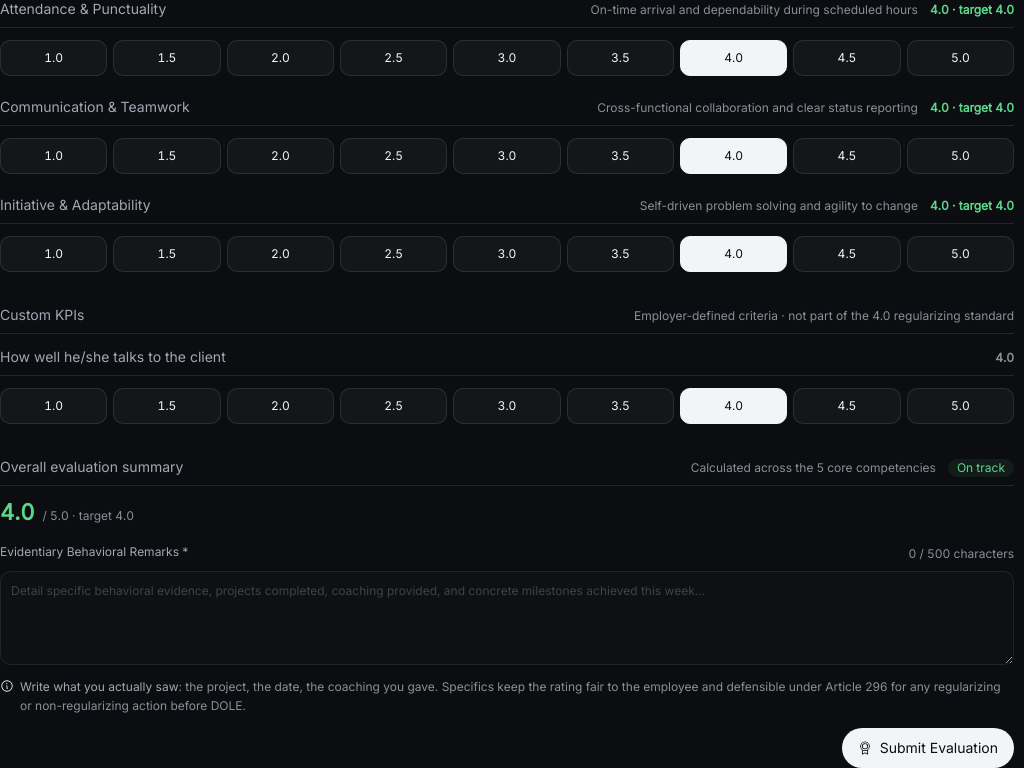
Test: RateEmployee › rates employer-defined custom KPIs and includes them in the payload
The image size is (1024, 768).
(page scrolled)
Expected: the heading "Custom KPIs" is shown, x1=0 y1=304 x2=84 y2=325
Click the button named "Score 2.0 for How well he/she talks to the client" at (280, 406), box x1=227 y1=388 x2=334 y2=424
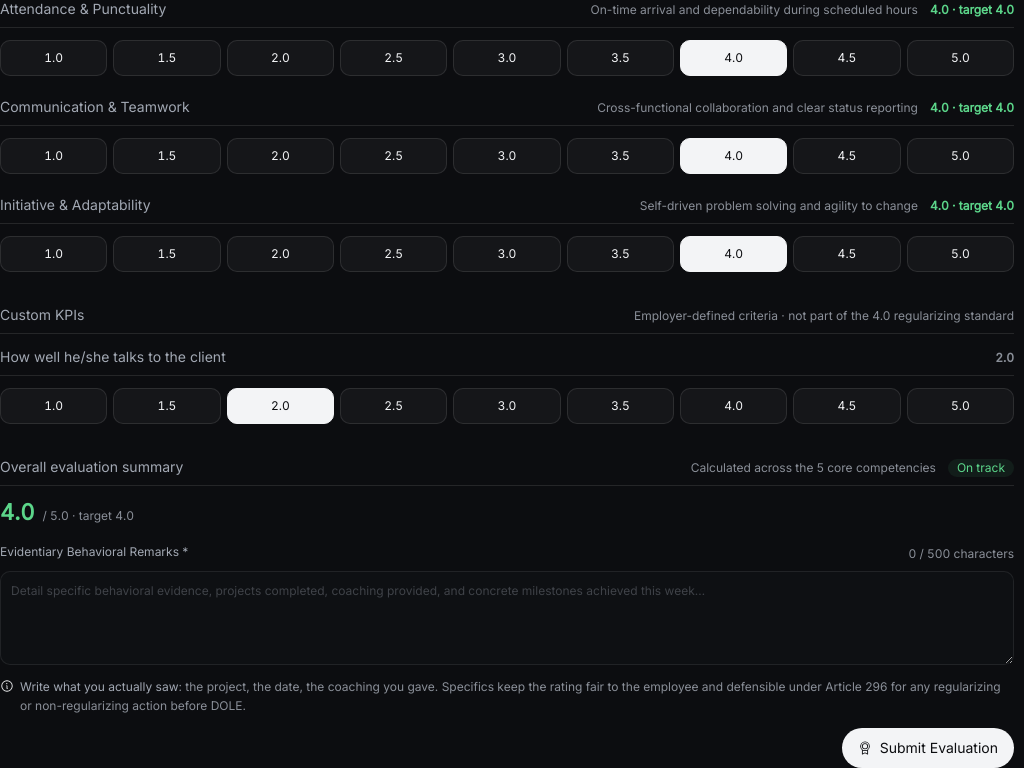
Replace the text in the text box labelled "Evidentiary Behavioral Remarks *" with "Client communication was inconsistent this week and needs coaching." at (507, 618), box x1=0 y1=571 x2=1014 y2=665
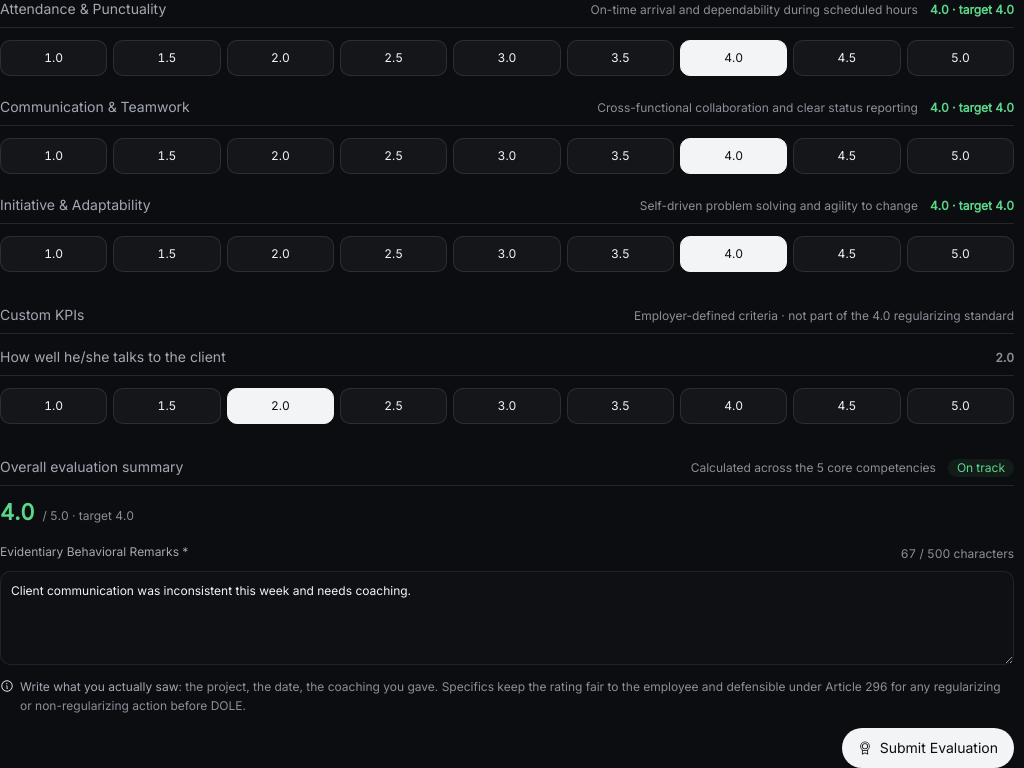
Click the button "Submit Evaluation" at (928, 748), box x1=842 y1=728 x2=1014 y2=767
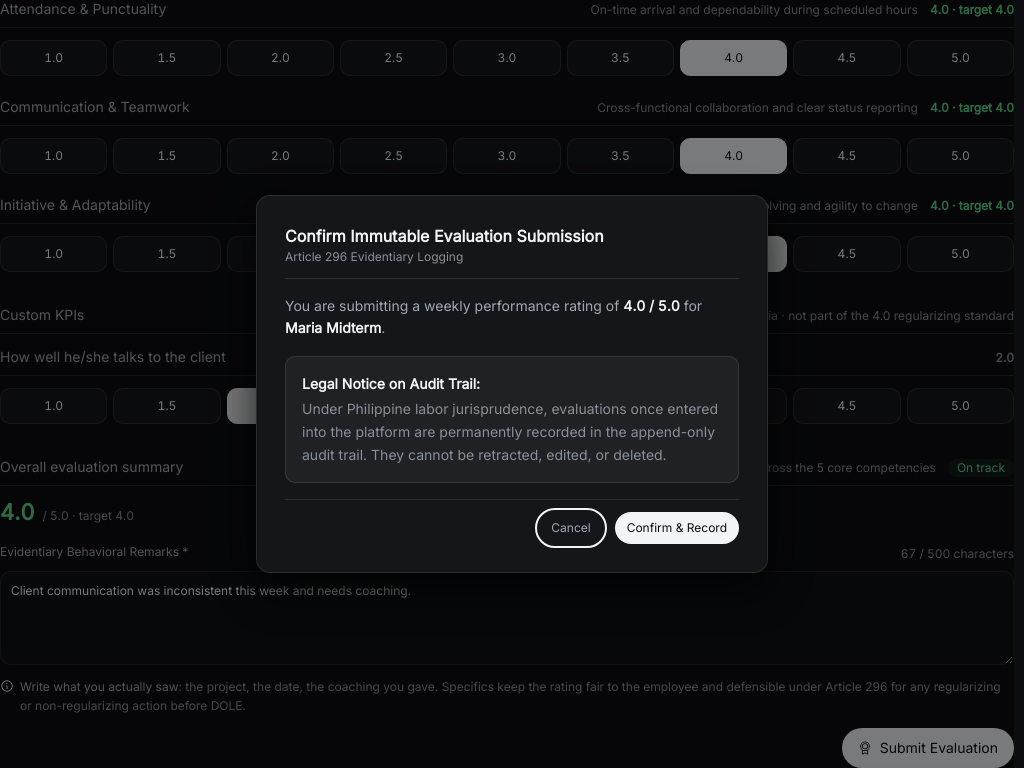
Click the button "Confirm & Record" at (677, 528), box x1=615 y1=512 x2=739 y2=544
(page scrolled)
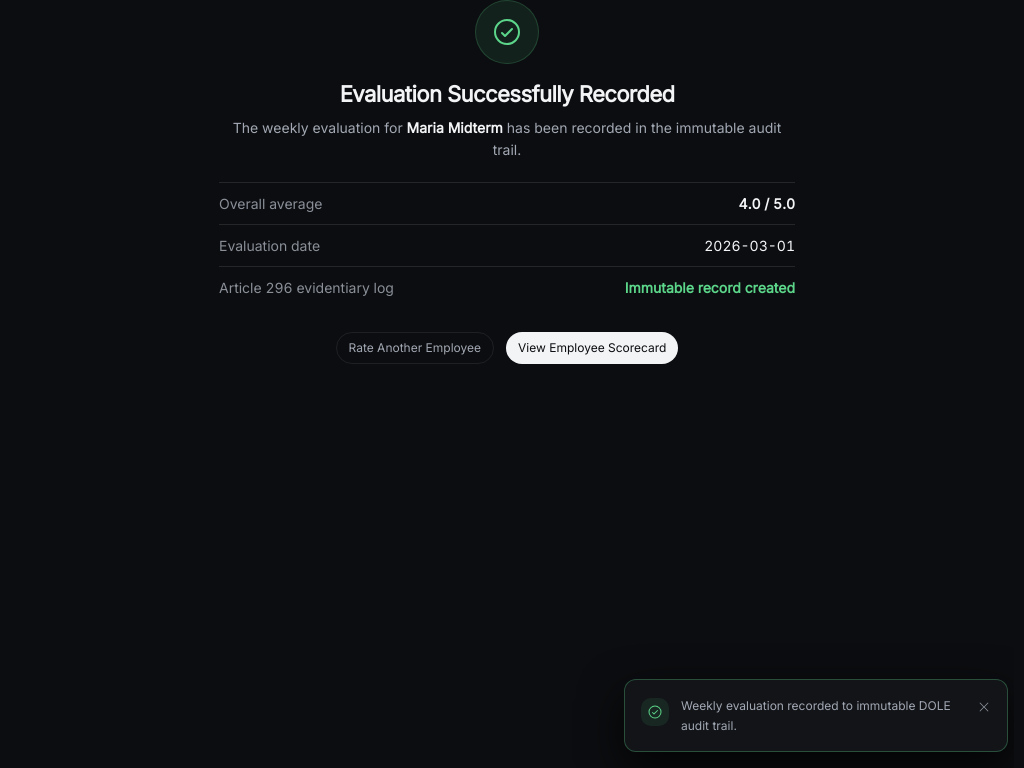
Result: the heading "Evaluation Successfully Recorded" is shown at x1=340 y1=81 x2=674 y2=107
